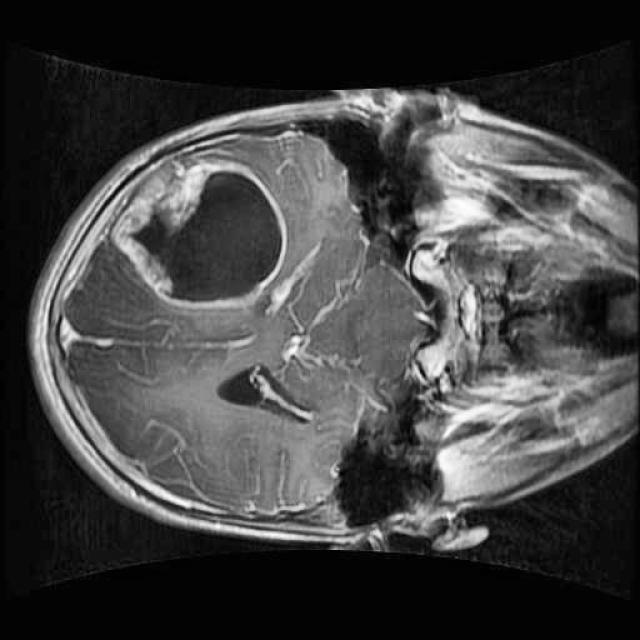Tumor: (99, 140, 296, 320)
